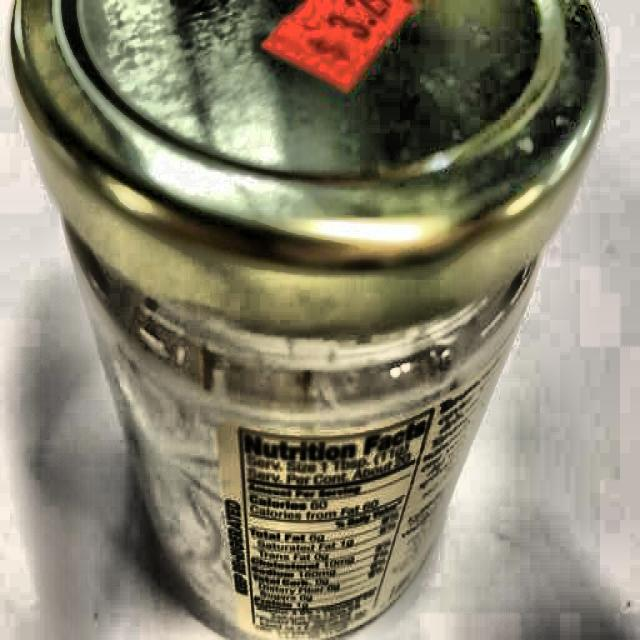glass: (87, 306, 519, 638)
metal: (9, 0, 614, 287)
